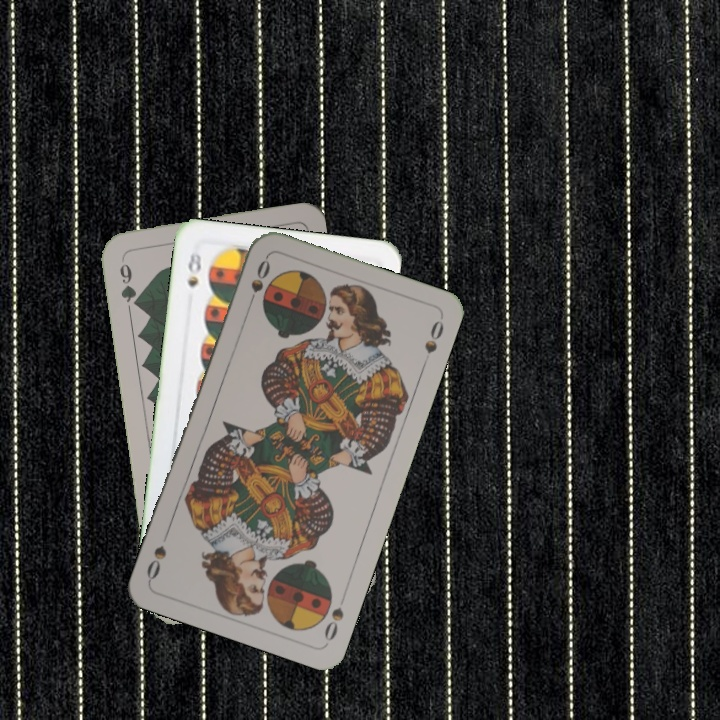G9: (115, 253, 142, 311)
S8: (183, 247, 204, 290)
SO: (244, 254, 273, 311), (320, 603, 347, 644)
